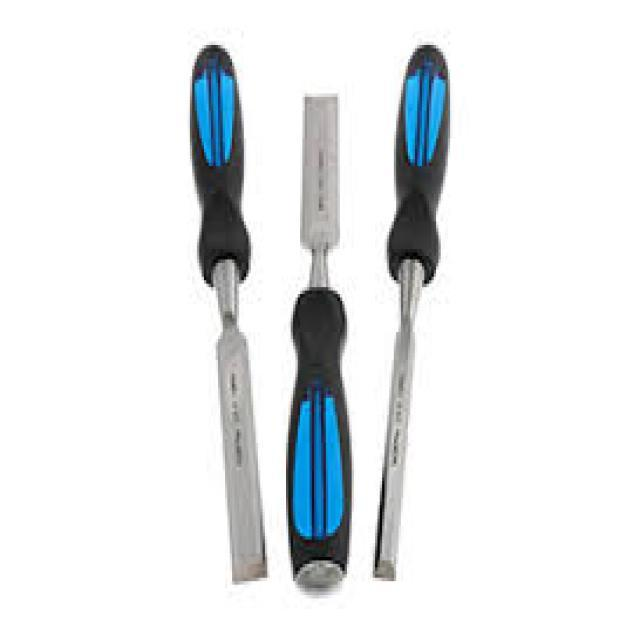screwdriver: (182, 35, 272, 591), (370, 37, 456, 592), (279, 87, 357, 604)
